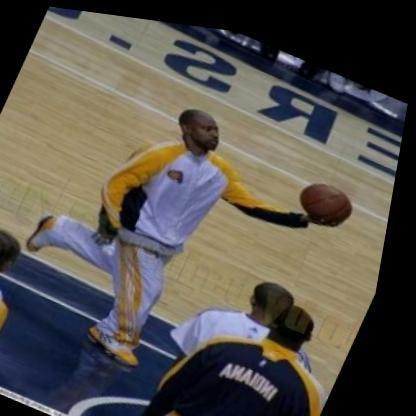basketball: (295, 164, 366, 222)
